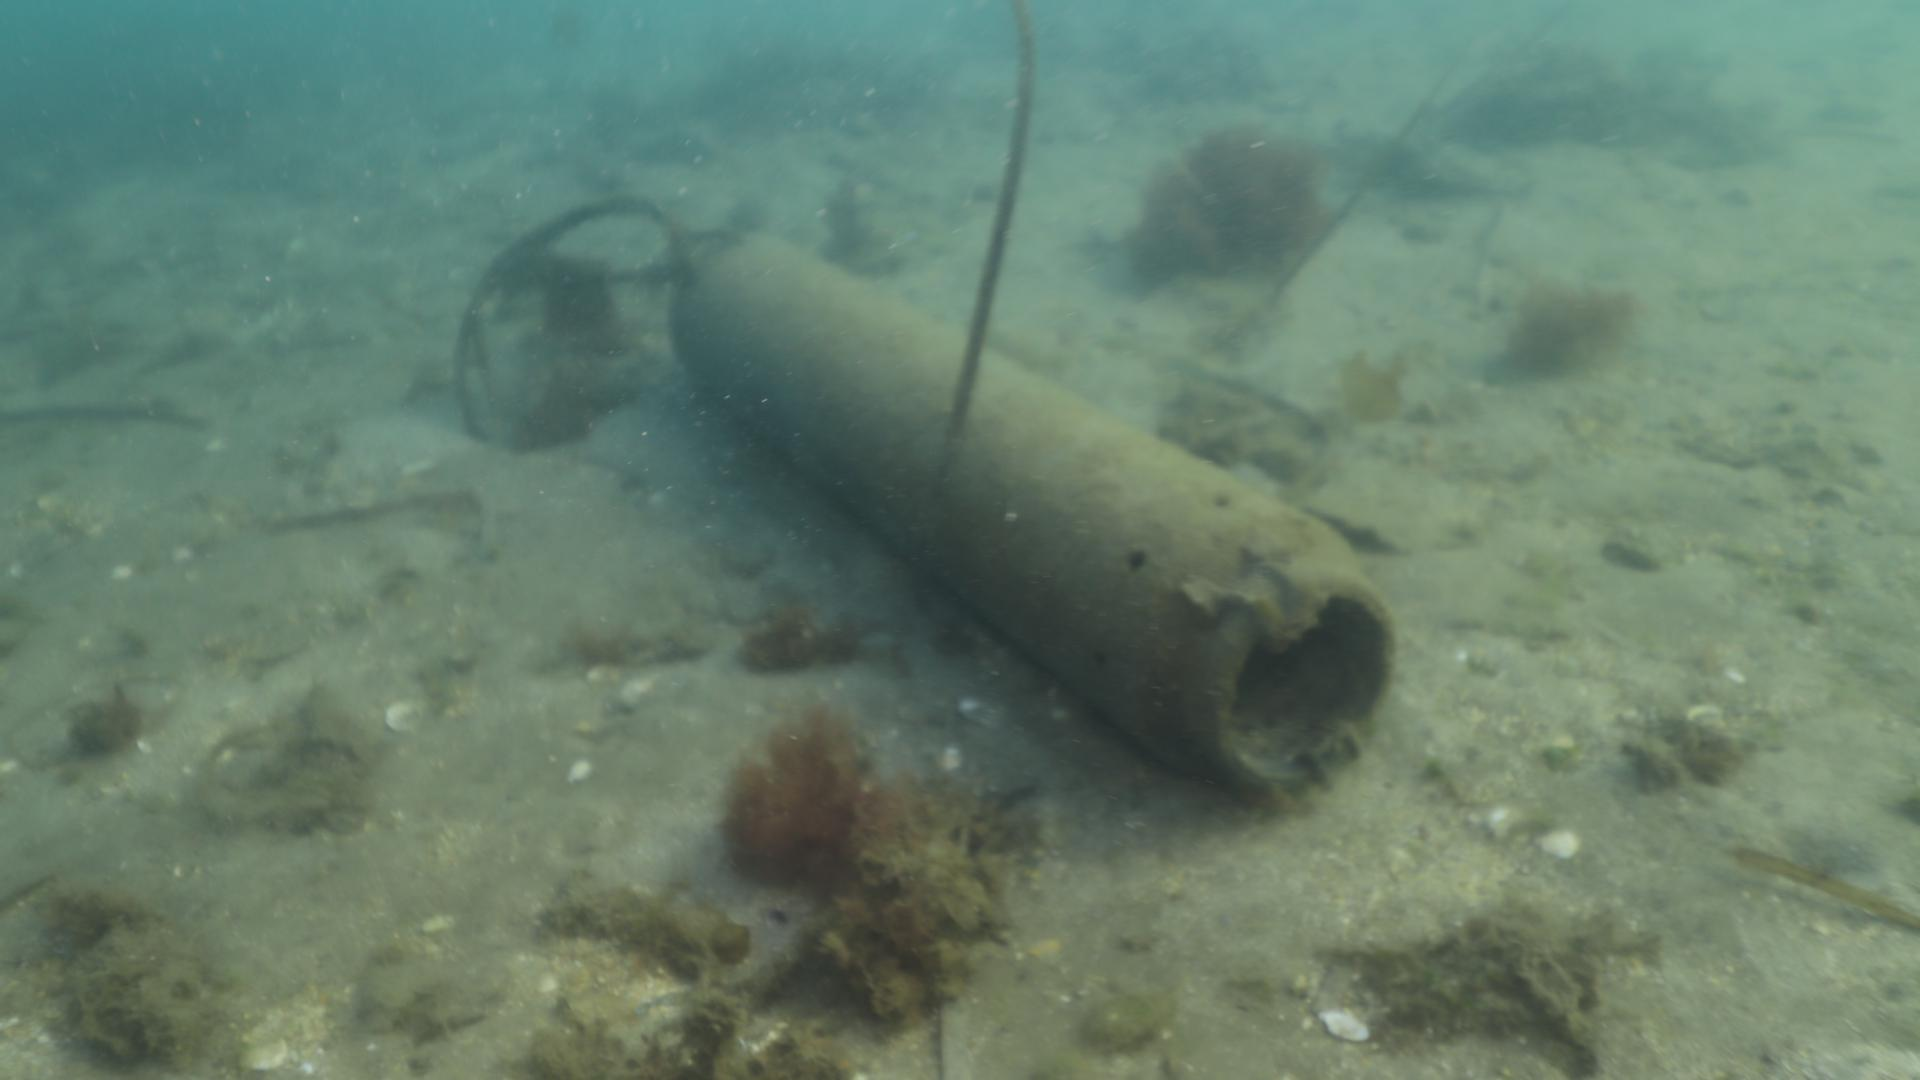eel fish trap: (665, 220, 1403, 814)
